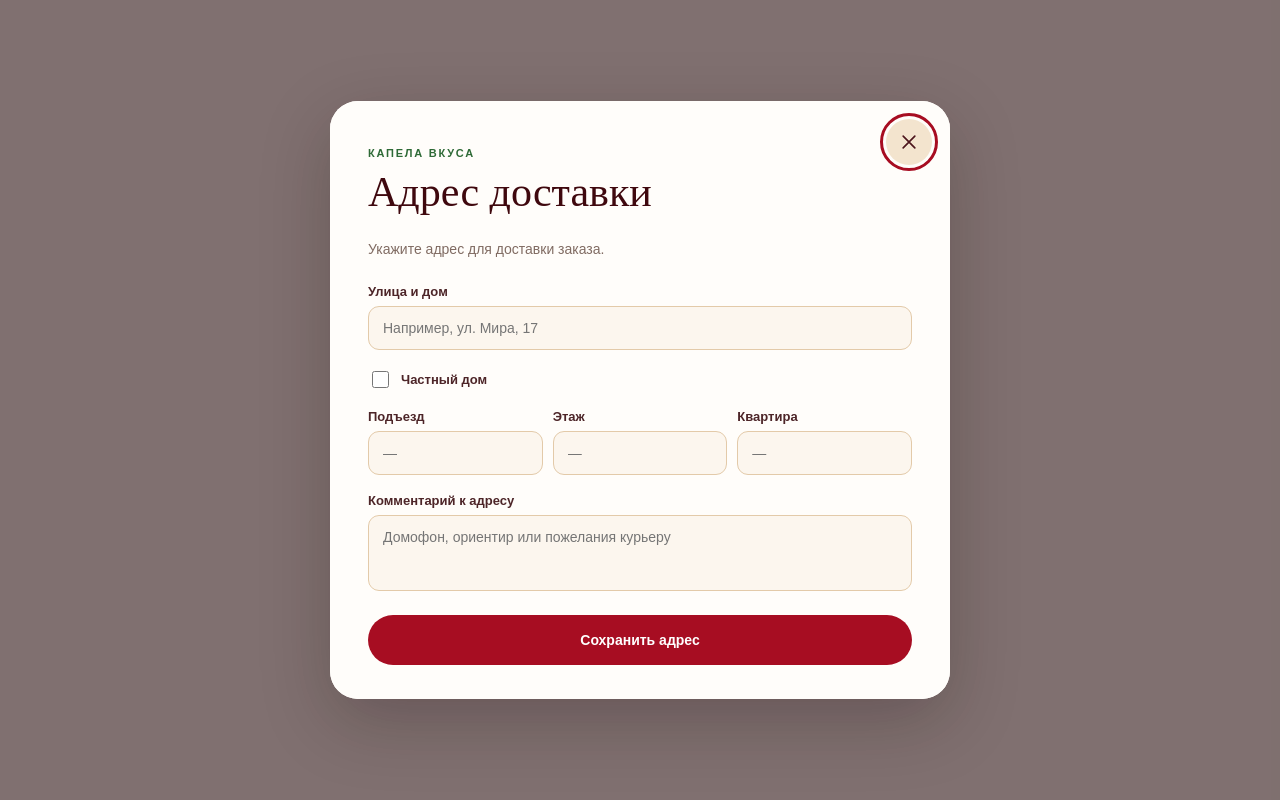
Test: требует квартиру, подъезд и этаж, пока не отмечен частный дом
Later steps or results of the test are not shown.
Type "ул. Мира, 10" into the field labelled "Улица и дом" at (640, 328), box [368, 306, 912, 350]
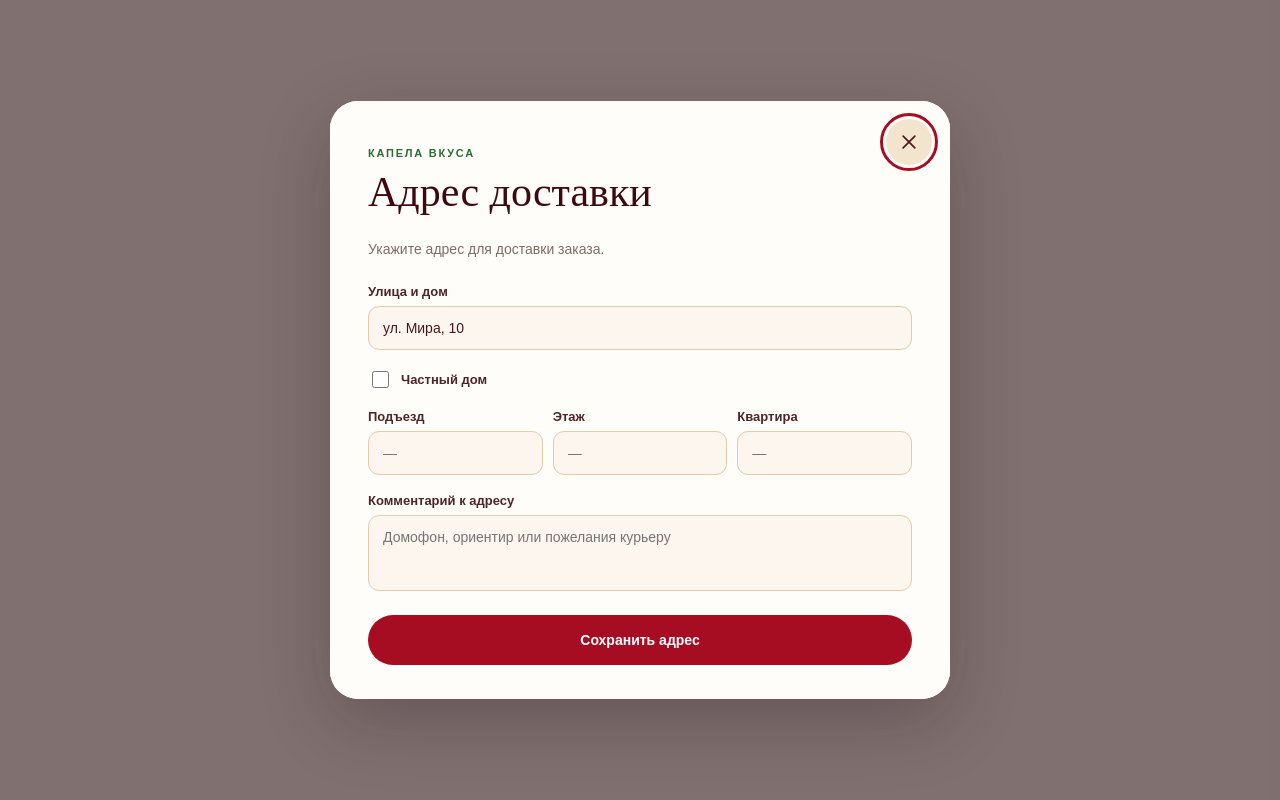
Click the button "Сохранить адрес" at (640, 640), box [368, 615, 912, 665]
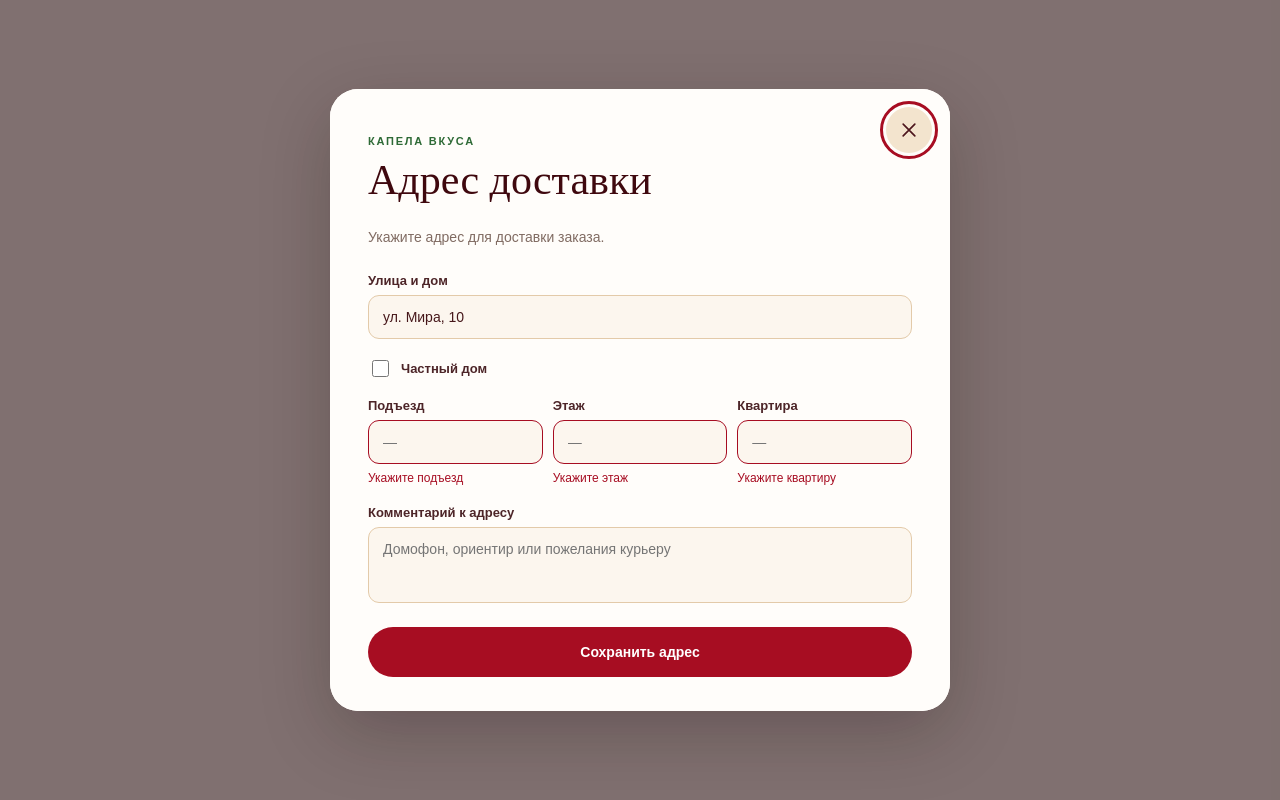
Click the checkbox labelled "Частный дом" at (380, 368), box [372, 360, 389, 377]
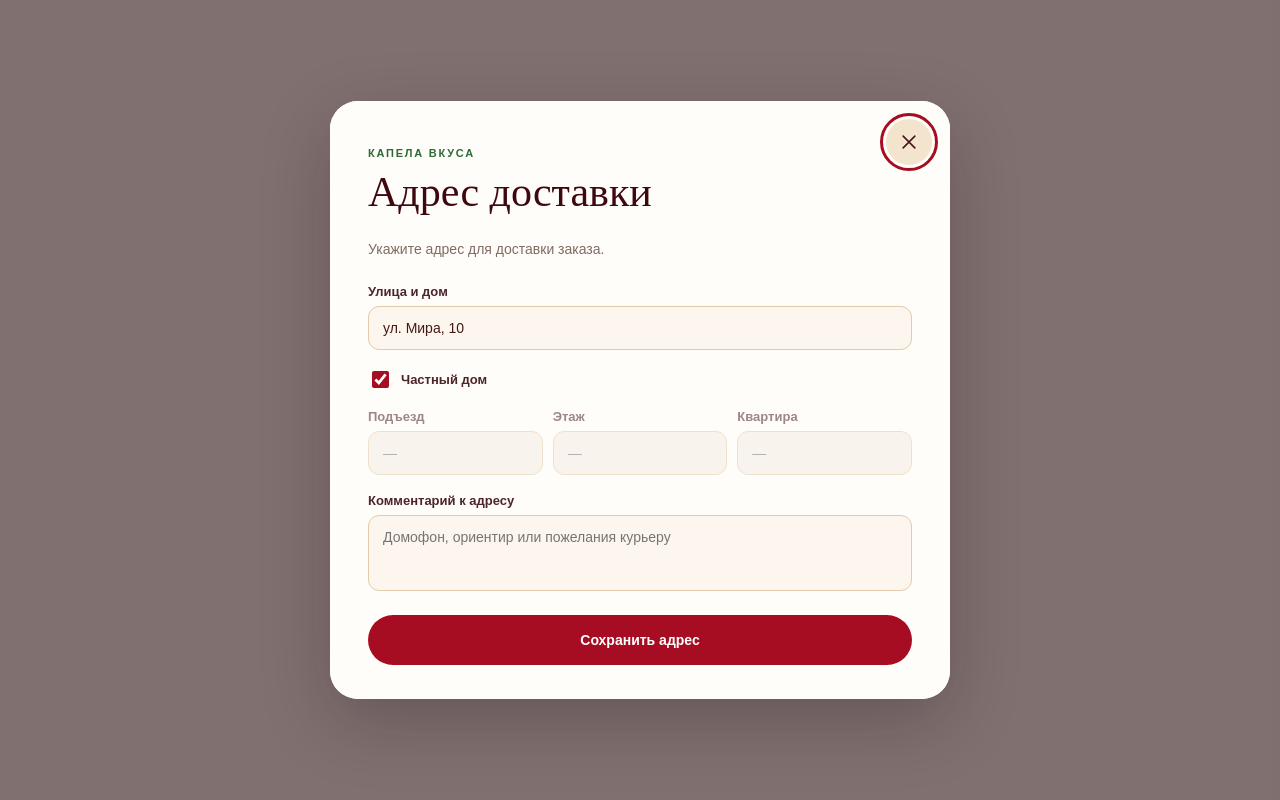
Check: the field labelled "Квартира" is disabled, box [737, 431, 912, 475]
